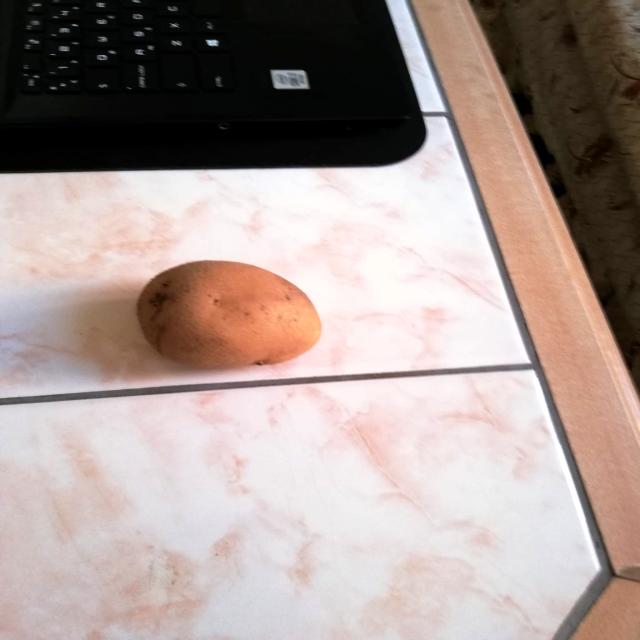potato: (132, 255, 326, 374)
